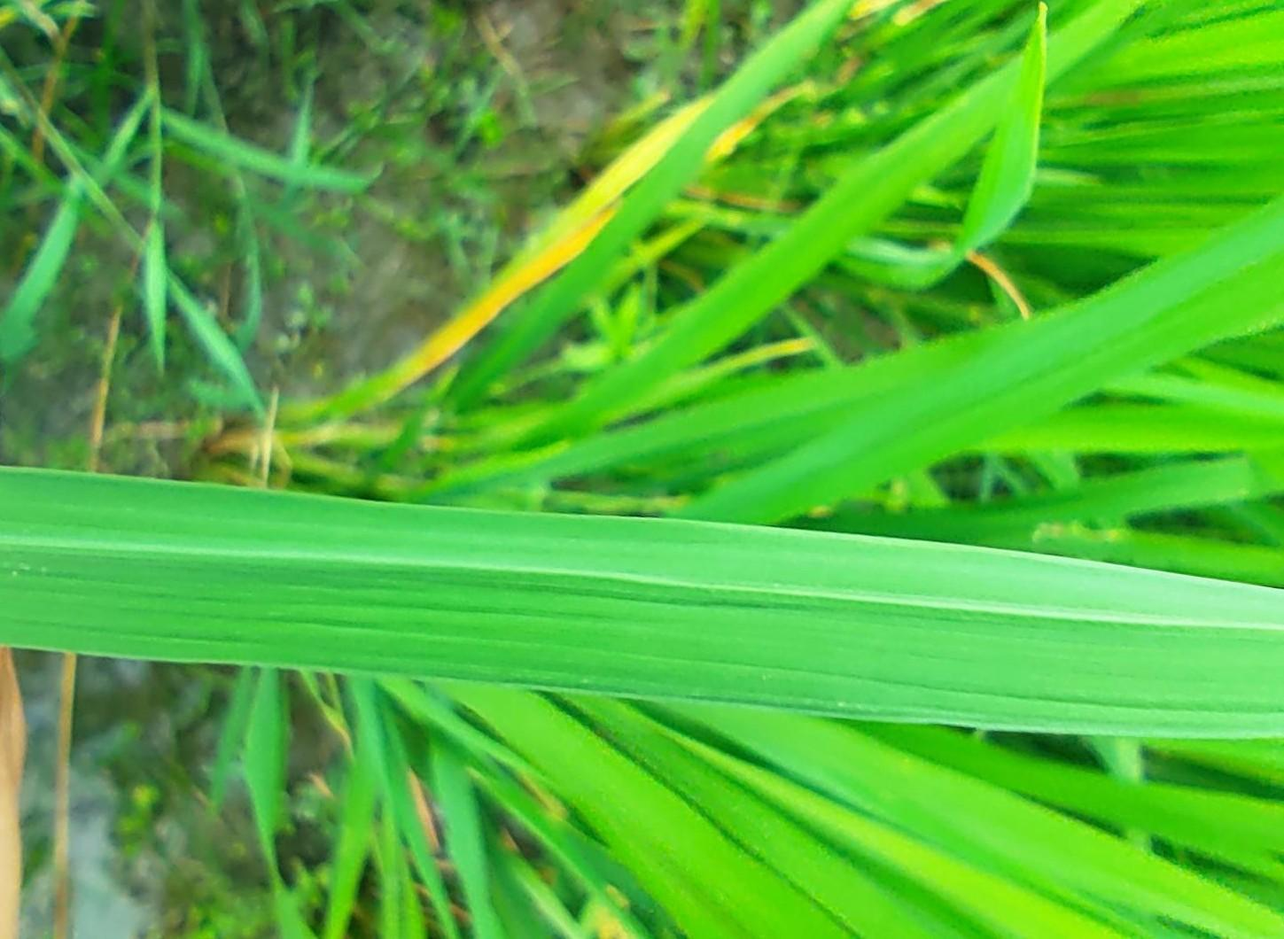Healthy: (1, 469, 1283, 740)
